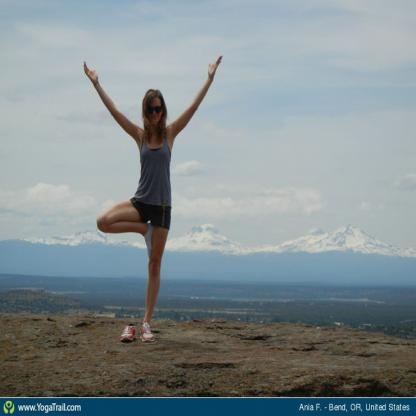tree: (78, 51, 230, 346)
